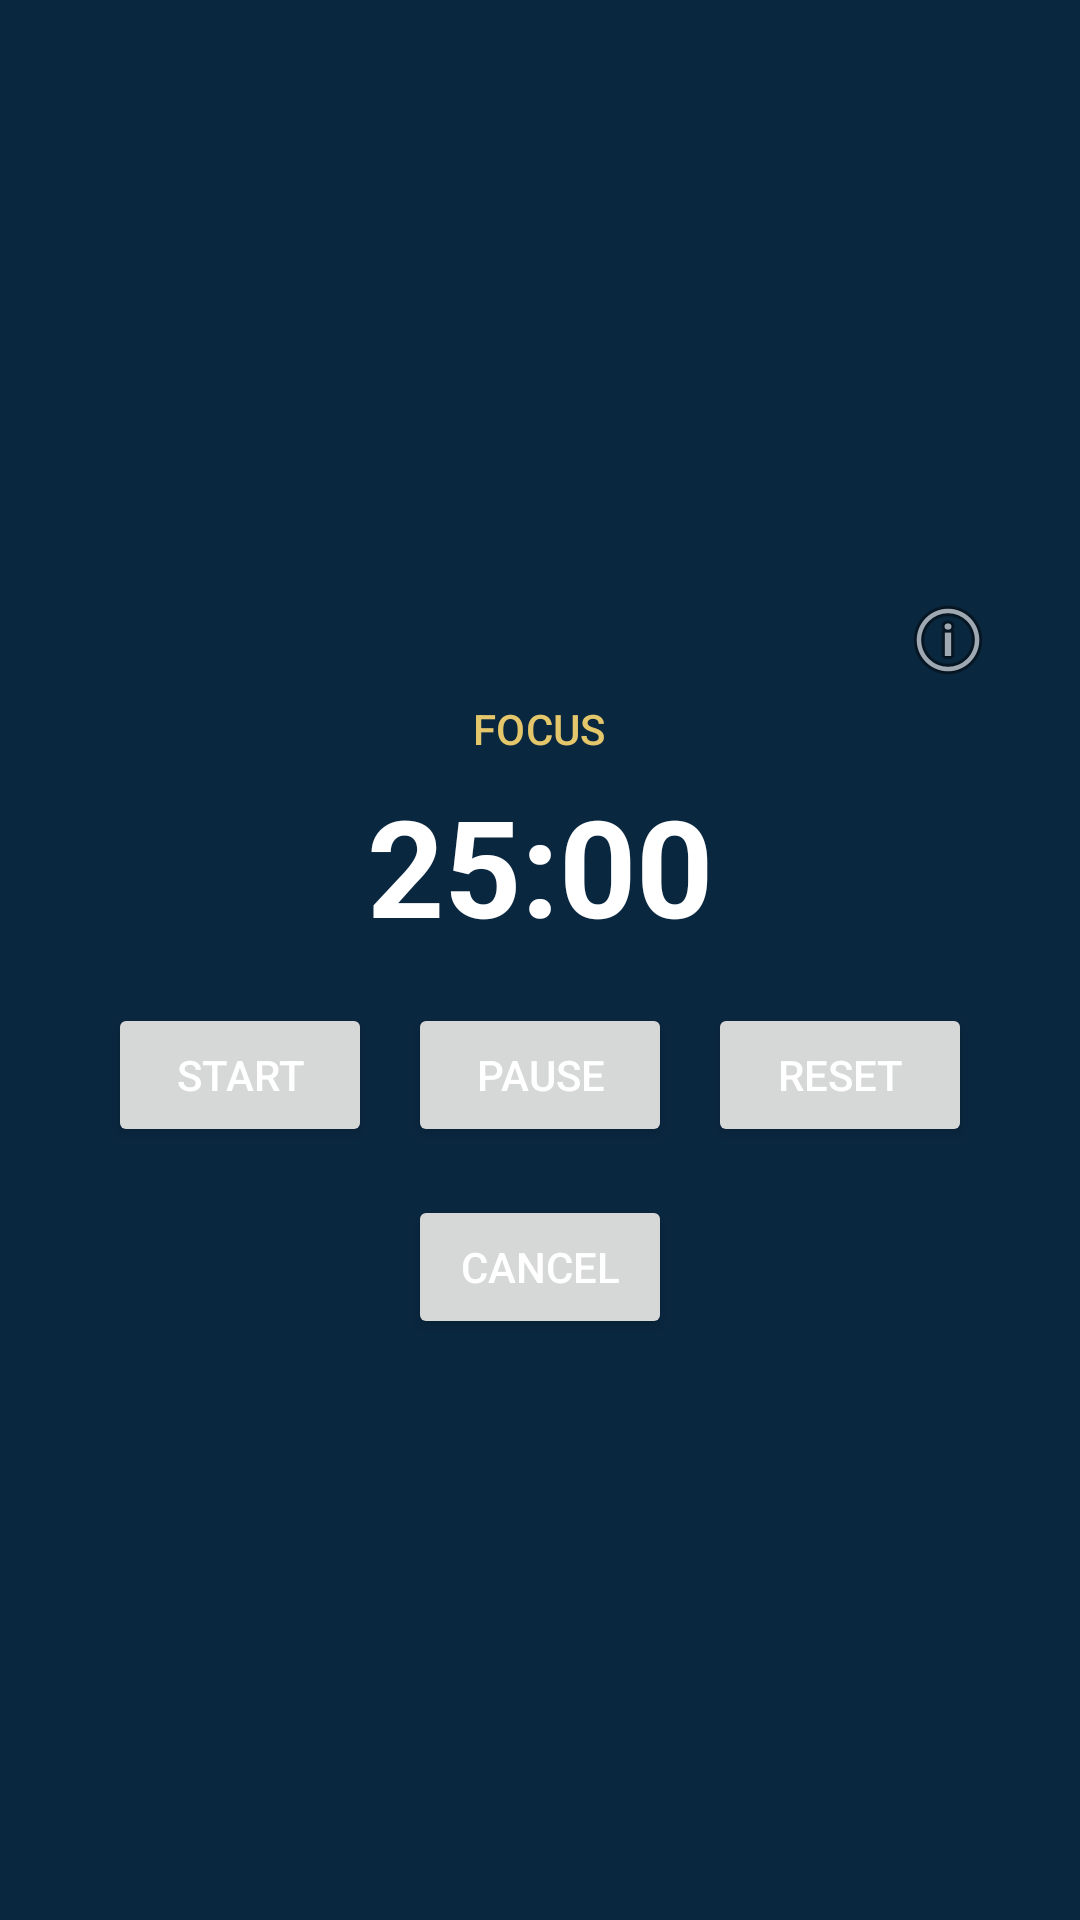

Icon click points for this 1080 x 1920 phone screenshot, format (x,y):
help: (948,640)
